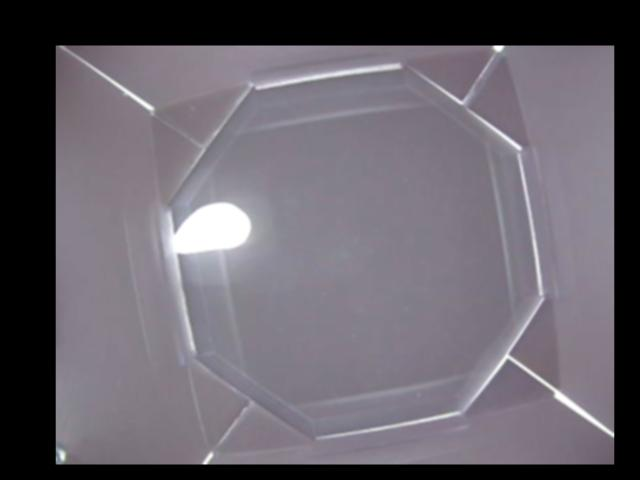Pebble: (170, 202, 250, 252)
